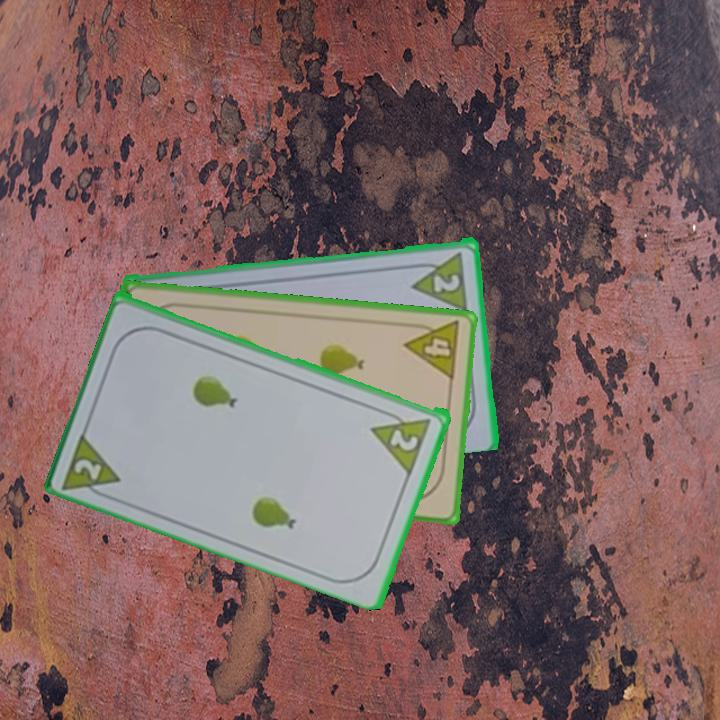2p: (59, 426, 125, 503), (386, 425, 422, 454), (430, 270, 463, 295)
4p: (401, 317, 463, 383)
